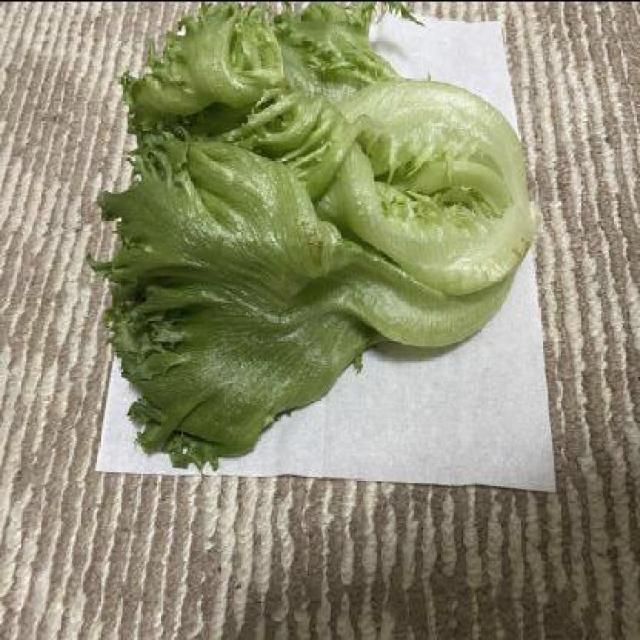Lettuce: (92, 0, 549, 479)
